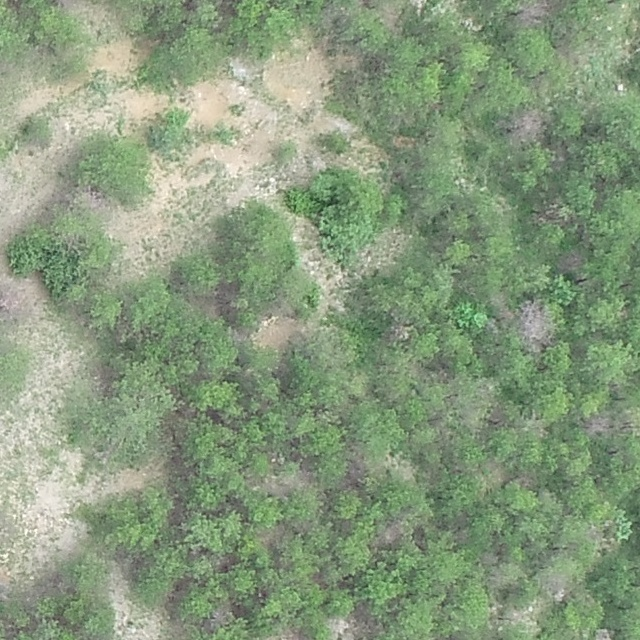unhealthy: (517, 296, 555, 351), (506, 107, 549, 144), (514, 0, 554, 27), (540, 569, 572, 602), (532, 199, 568, 225), (375, 518, 405, 549), (326, 614, 361, 640), (582, 412, 613, 435), (382, 321, 413, 343), (555, 250, 584, 273), (275, 627, 308, 640), (590, 628, 614, 640)
